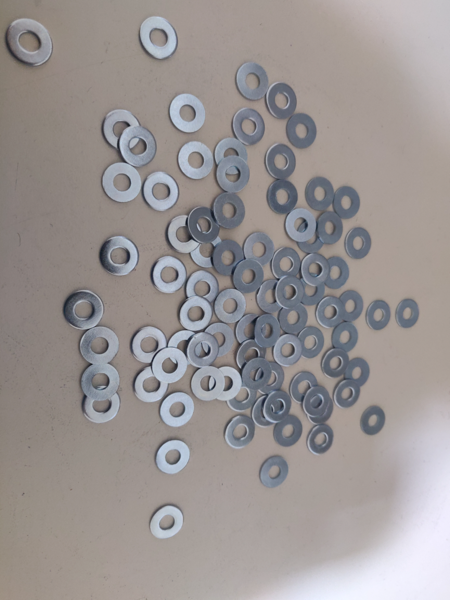circle: (6, 17, 53, 66), (139, 16, 178, 60), (101, 110, 142, 151), (64, 290, 105, 331), (100, 237, 140, 277), (101, 164, 142, 203), (118, 127, 156, 167), (80, 327, 119, 365), (81, 387, 121, 424), (169, 95, 206, 133), (143, 172, 179, 211), (178, 142, 214, 180), (81, 365, 119, 401), (151, 348, 188, 384), (167, 216, 202, 254), (152, 256, 187, 294), (132, 326, 167, 364), (133, 367, 169, 403), (159, 392, 194, 428), (216, 156, 250, 193), (167, 330, 201, 367), (155, 440, 190, 475), (189, 232, 223, 268), (215, 139, 248, 176), (187, 207, 220, 244), (233, 108, 265, 146), (185, 270, 220, 304), (180, 296, 214, 331), (237, 64, 269, 101), (149, 506, 184, 539), (187, 333, 220, 368), (192, 367, 225, 402), (266, 83, 297, 120), (214, 192, 245, 229), (243, 232, 275, 267), (210, 367, 242, 402), (233, 260, 265, 294), (202, 324, 234, 358), (267, 180, 298, 215), (213, 241, 244, 276), (214, 290, 246, 323), (256, 280, 287, 314), (287, 114, 317, 149), (266, 145, 296, 180), (286, 208, 316, 243), (236, 339, 267, 372), (241, 358, 272, 391), (226, 380, 258, 411), (225, 416, 255, 449), (236, 314, 266, 347), (276, 275, 305, 309), (274, 333, 303, 367), (279, 302, 309, 334), (306, 178, 335, 211), (332, 187, 361, 220), (301, 254, 330, 287), (316, 296, 345, 329), (274, 415, 303, 447), (272, 249, 301, 281), (256, 363, 285, 395), (253, 396, 282, 428), (297, 220, 325, 253), (261, 456, 289, 489), (321, 257, 349, 290), (297, 275, 326, 306), (321, 348, 350, 379), (290, 372, 318, 404), (264, 391, 292, 423), (316, 212, 343, 245), (254, 315, 280, 349), (296, 328, 325, 358), (307, 424, 334, 456), (332, 323, 359, 354), (346, 227, 372, 259), (333, 380, 361, 409), (344, 358, 370, 389), (308, 395, 334, 426), (338, 290, 363, 322), (304, 386, 329, 418), (361, 406, 386, 436), (367, 300, 391, 330), (397, 299, 420, 328)
